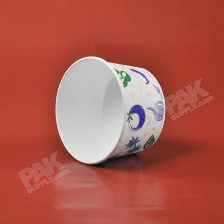paper_cup: (47, 49, 170, 169)
